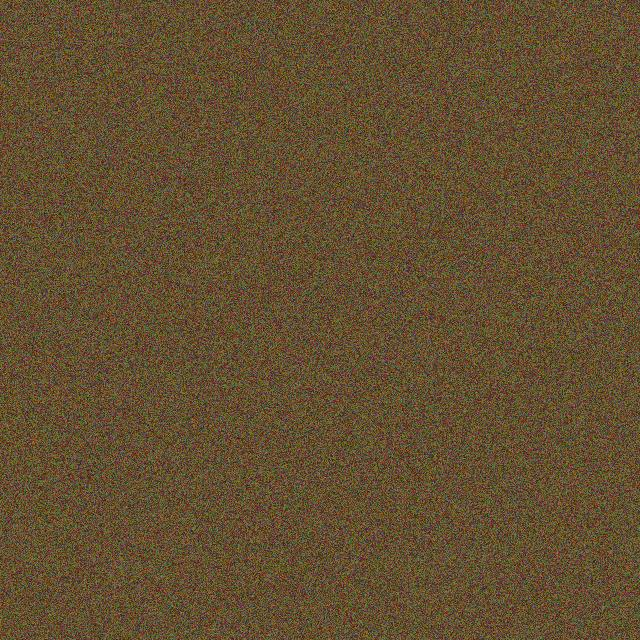ghost_net: (203, 322, 243, 366)
